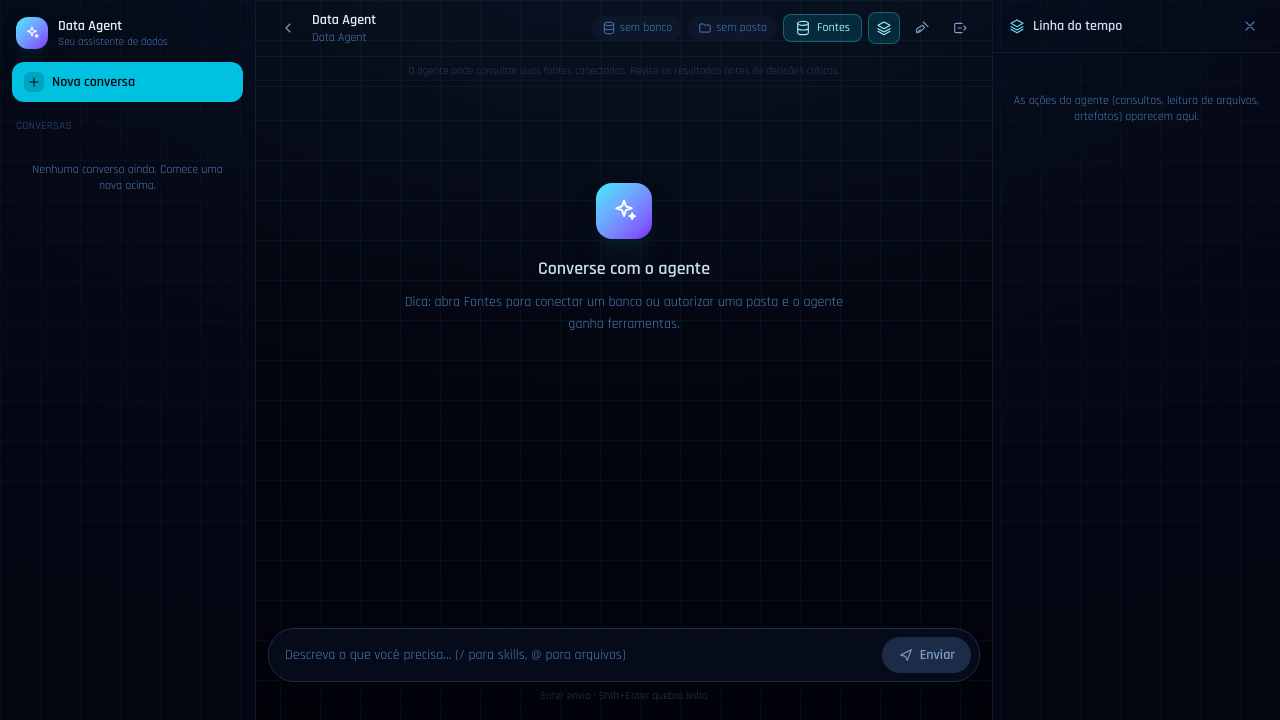
Test: turn endings › shows no notice at all on a normal completion
Step 1. Type "analise a pasta" into the text box → (579,654), box [285,638,874,670]
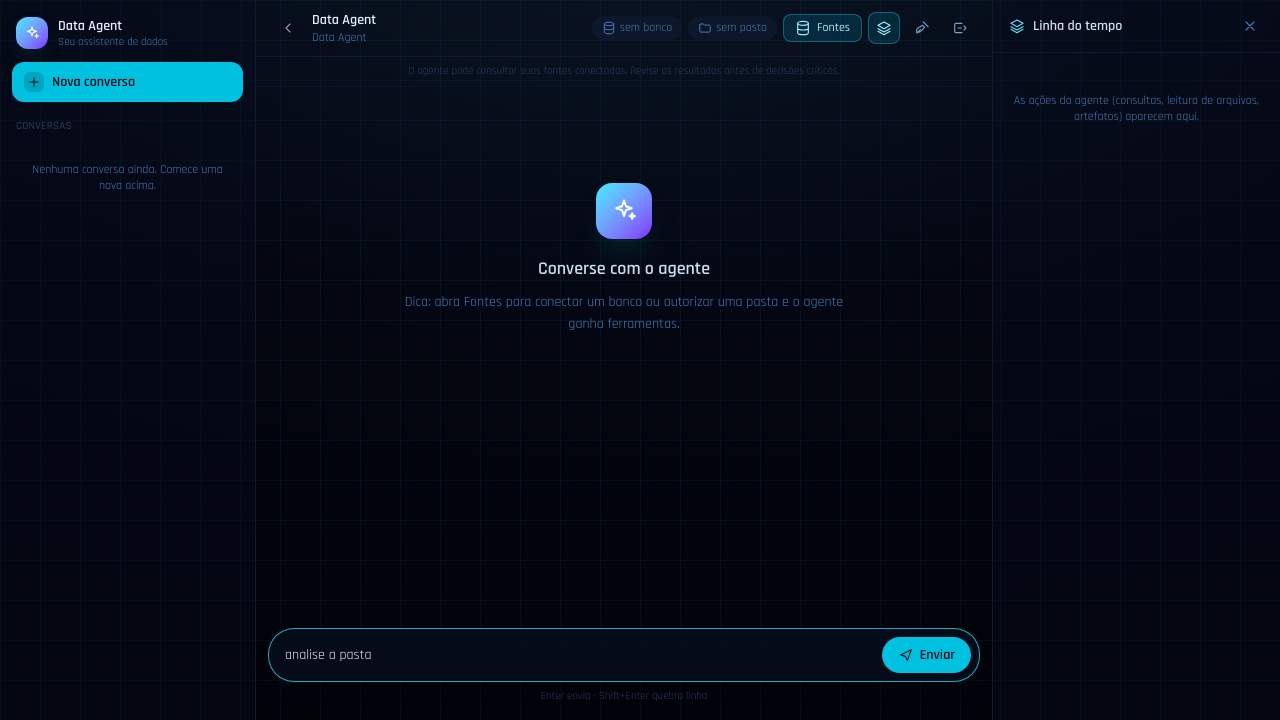
Step 2. Press Enter
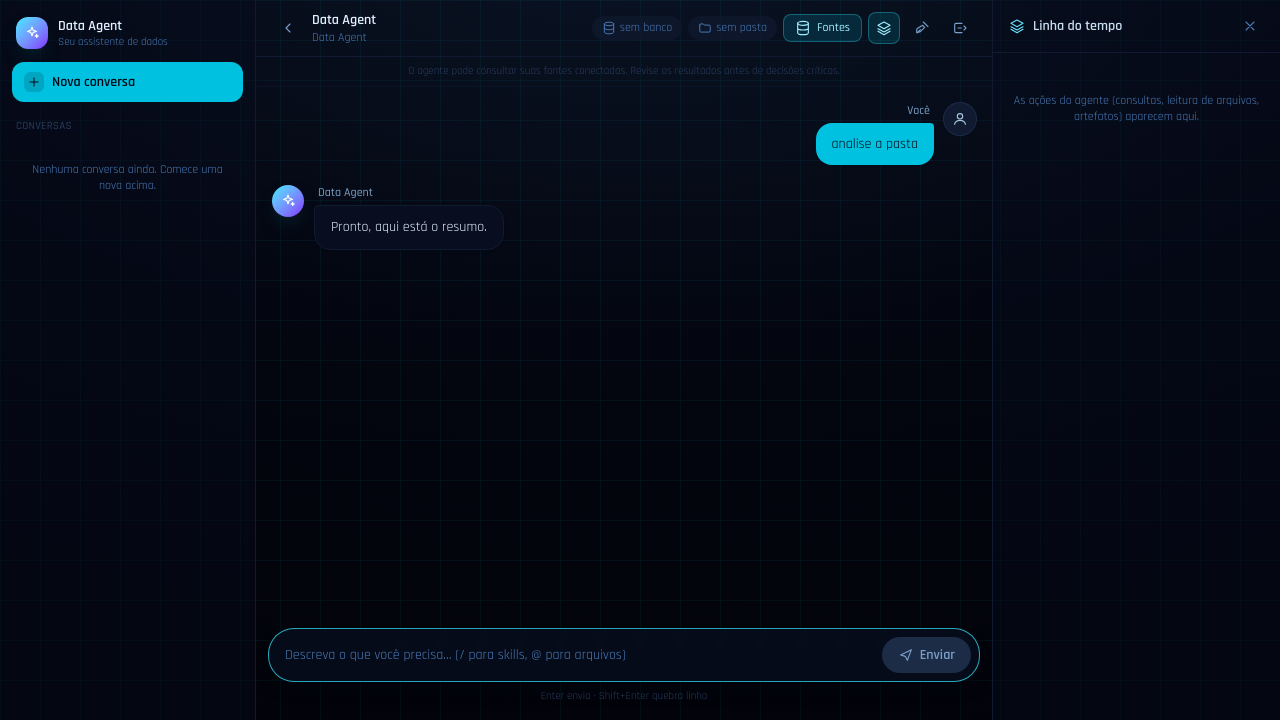
Expected: the text "Pronto, aqui está o resumo." is shown, [331,216,487,239]
